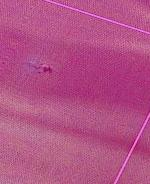knot: (32, 61, 55, 78)
